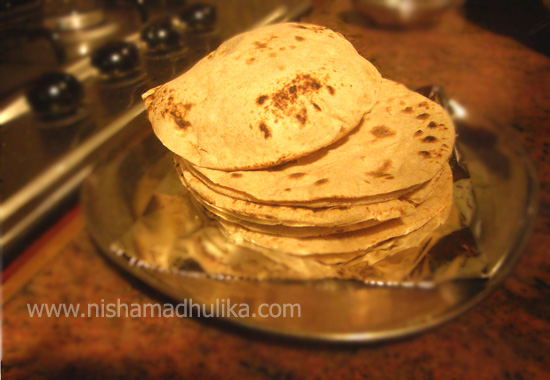roti: (155, 17, 374, 172), (189, 78, 458, 204), (187, 142, 456, 268)
